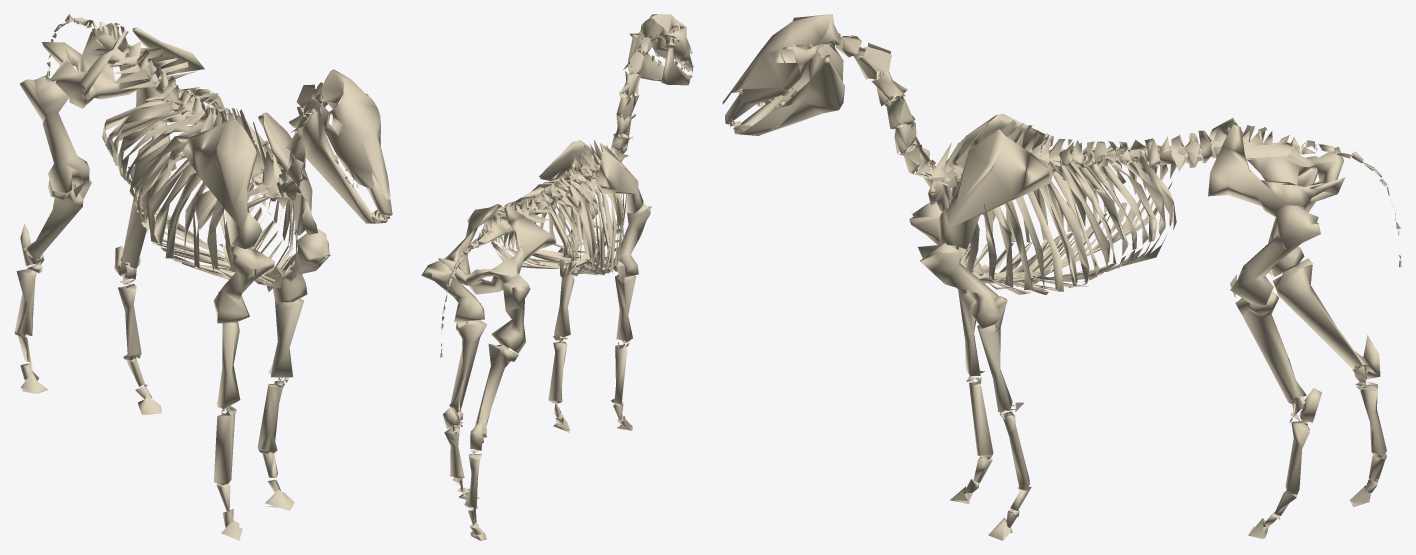
Rendered from carcass_bones.glb.
The picture shows the model from 3 angles, left to right: view 1: azimuth 30°, elevation 25°; view 2: azimuth 150°, elevation 25°; view 3: azimuth 270°, elevation 25°; orthographic projection. The views are drawn at different scales.
Parts seen in each view (by area): view 1: Object_10; view 2: Object_10; view 3: Object_10.
Boxes of the visible parts, bbox=[...] form: Object_10: bbox=[14, 14, 392, 540]; Object_10: bbox=[421, 14, 693, 540]; Object_10: bbox=[722, 14, 1401, 540].
Bounding box in the file's own units: 0.5431 × 1.97 × 2.4.
